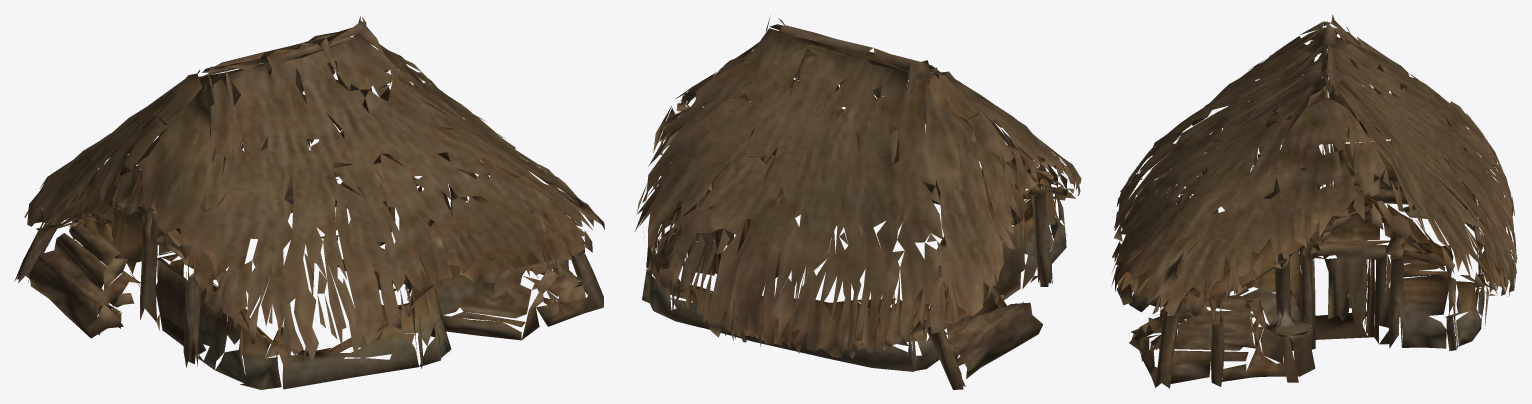
The model's file is lumber_far.glb.
The picture shows the model from 3 angles, left to right: view 1: azimuth 30°, elevation 25°; view 2: azimuth 150°, elevation 25°; view 3: azimuth 270°, elevation 25°; orthographic projection. The views are drawn at different scales.
Visible parts, largest first — view 1: model; view 2: model; view 3: model.
Boxes of the visible parts, bbox=[...] form: model: bbox=[14, 16, 604, 389]; model: bbox=[634, 15, 1081, 389]; model: bbox=[1111, 15, 1517, 388].
Size of the model in its own units: 0.9777 by 0.5749 by 0.8665.
1 material, 1 textured.
